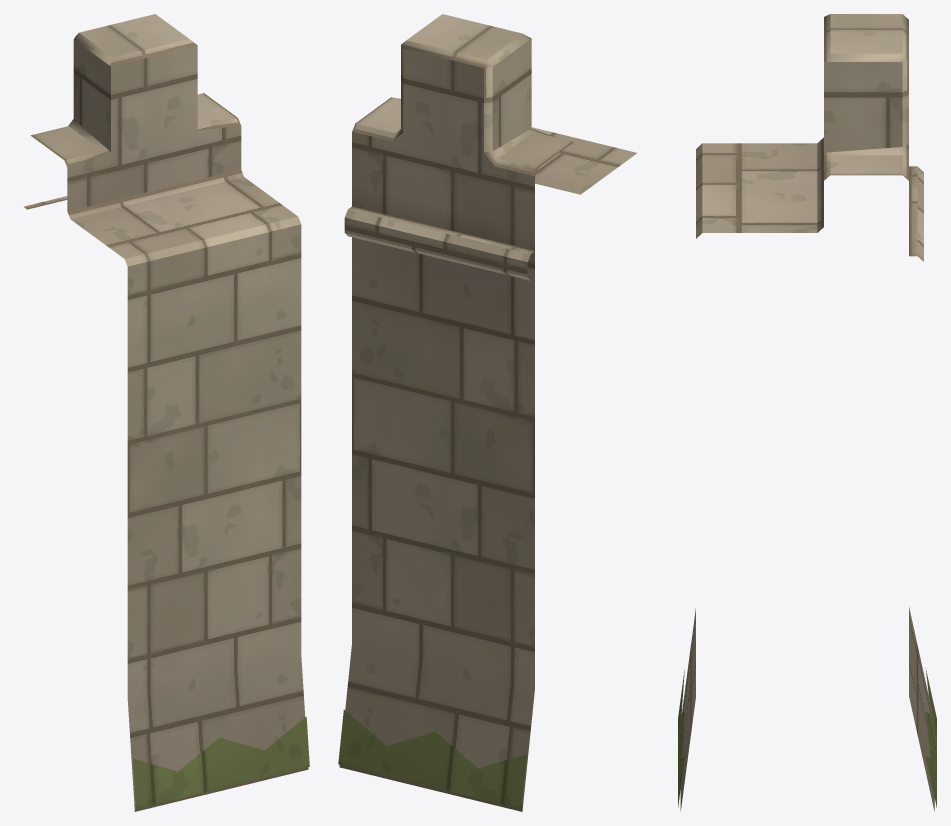
Rendered from wall.segment.glb.
3 views of the same model, side by side, from view 1: azimuth 30°, elevation 25°; view 2: azimuth 150°, elevation 25°; view 3: azimuth 270°, elevation 25° (orthographic). The views are drawn at different scales.
Parts seen in each view (by area): view 1: castle.wall.segment; view 2: castle.wall.segment; view 3: castle.wall.segment.
Part boxes in pixels (bbox=[...]): castle.wall.segment: bbox=[24, 14, 309, 811]; castle.wall.segment: bbox=[338, 14, 636, 811]; castle.wall.segment: bbox=[678, 14, 936, 811].
Size of the model in its own units: 1 by 3.8 by 1.22.
Materials: 1 (1 with a texture image).
